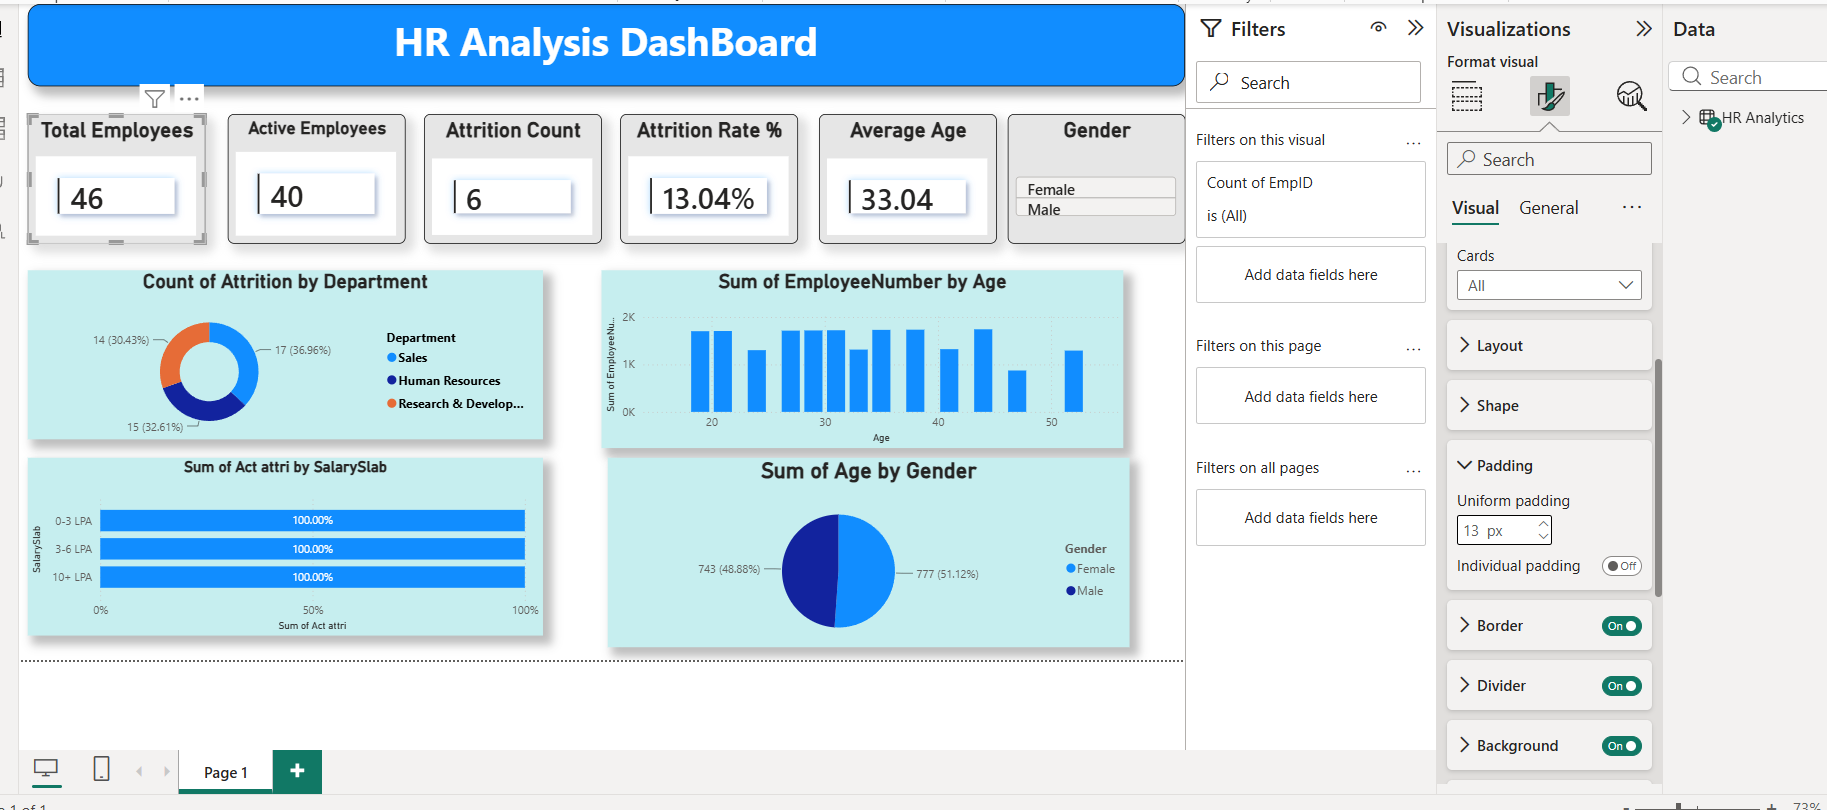

What the dashboard file says about the page in this screenshot:
{"tool":"powerbi","page":{"name":"Page 1","canvas":[1280,720],"ordinal":0},"visuals":[{"type":"textbox","box":[10,0,1270,90],"z":0},{"type":"cardVisual","title":"Total Employees","fields":{"Data":["CountNonNull(HR Analytics.EmpID)"]},"box":[9.6,120.8,194.9,142.7],"z":1000},{"type":"cardVisual","title":"Active Employees","fields":{"Data":["CountNonNull(HR Analytics.EmployeeCount)"]},"box":[229.2,120.8,194.9,142.7],"z":2000},{"type":"cardVisual","title":"Attrition Count","fields":{"Data":["CountNonNull(HR Analytics.Act attri)"]},"box":[444.6,120.8,194.9,142.7],"z":3000},{"type":"cardVisual","title":"Attrition Rate %","fields":{"Data":["HR Analytics.attrition rate"]},"box":[660,120.8,194.9,142.7],"z":4000},{"type":"cardVisual","title":"Average Age","fields":{"Data":["Avg(HR Analytics.Age)"]},"box":[878.2,120.8,194.9,142.7],"z":5000},{"type":"cardVisual","title":"Gender","fields":{"Rows":["HR Analytics.Gender"]},"box":[1085.4,120.8,194.9,142.7],"z":6000},{"type":"donutChart","title":"Count of Attrition by Department","fields":{"Category":["HR Analytics.Department"],"Y":["CountNonNull(HR Analytics.Attrition)"]},"box":[10,292.2,565.9,185.3],"z":7000},{"type":"hundredPercentStackedBarChart","fields":{"Category":["HR Analytics.SalarySlab"],"Y":["Sum(HR Analytics.Act attri)"]},"box":[10,497.5,565.9,195.3],"z":8000},{"type":"columnChart","fields":{"Category":["HR Analytics.Age"],"Y":["Sum(HR Analytics.EmployeeNumber)"]},"box":[640,292.2,573,195.3],"z":9000},{"type":"pieChart","fields":{"Y":["Sum(HR Analytics.Age)"],"Category":["HR Analytics.Gender"]},"box":[645.7,497.5,573,208.1],"z":10000}]}

Visuals, with their boxes on the page's 1280x720 design canvas (x1, y1, x2, y2). These are canvas units, not pixel positions in the 1827x810 screenshot, which may show the page scaled, cropped or inside an application window:
textbox: [x1=10, y1=0, x2=1280, y2=90]
"Total Employees" cardVisual: [x1=10, y1=121, x2=204, y2=264]
"Active Employees" cardVisual: [x1=229, y1=121, x2=424, y2=264]
"Attrition Count" cardVisual: [x1=445, y1=121, x2=640, y2=264]
"Attrition Rate %" cardVisual: [x1=660, y1=121, x2=855, y2=264]
"Average Age" cardVisual: [x1=878, y1=121, x2=1073, y2=264]
"Gender" cardVisual: [x1=1085, y1=121, x2=1280, y2=264]
"Count of Attrition by Department" donutChart: [x1=10, y1=292, x2=576, y2=478]
hundredPercentStackedBarChart - HR Analytics.SalarySlab x Sum(HR Analytics.Act attri): [x1=10, y1=498, x2=576, y2=693]
columnChart - HR Analytics.Age x Sum(HR Analytics.EmployeeNumber): [x1=640, y1=292, x2=1213, y2=488]
pieChart - Sum(HR Analytics.Age) x HR Analytics.Gender: [x1=646, y1=498, x2=1219, y2=706]
